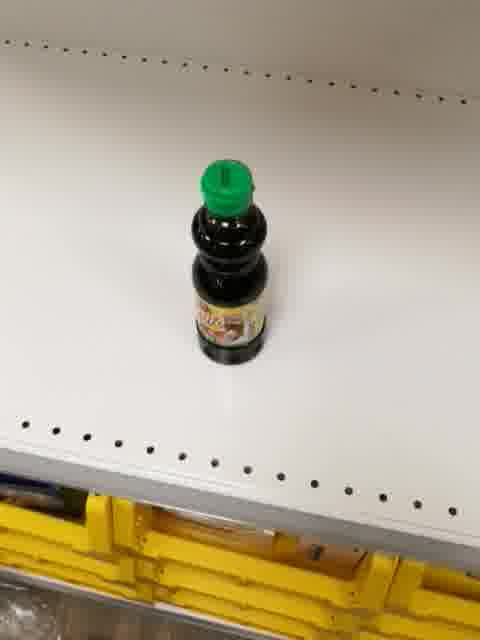cookingoil: (188, 154, 271, 368)
